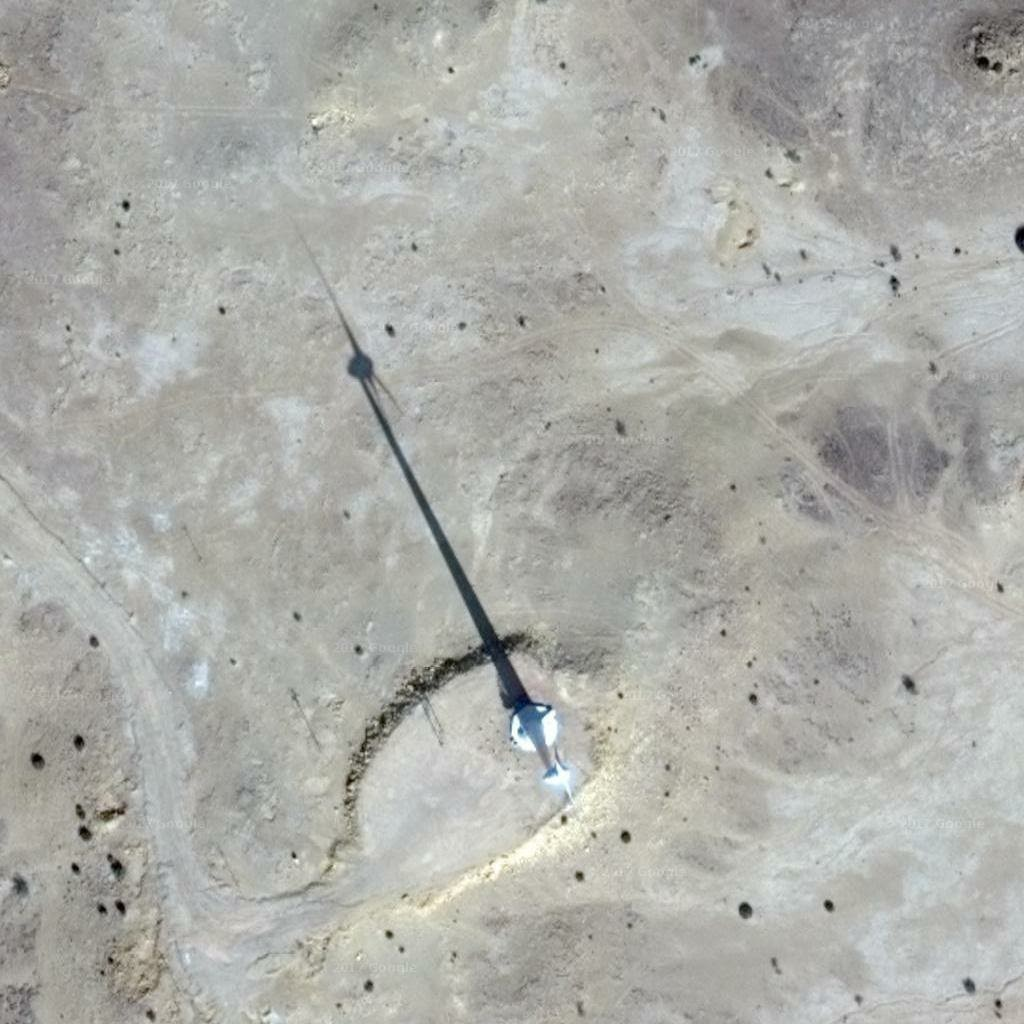Windmill: (301, 266, 534, 707)
